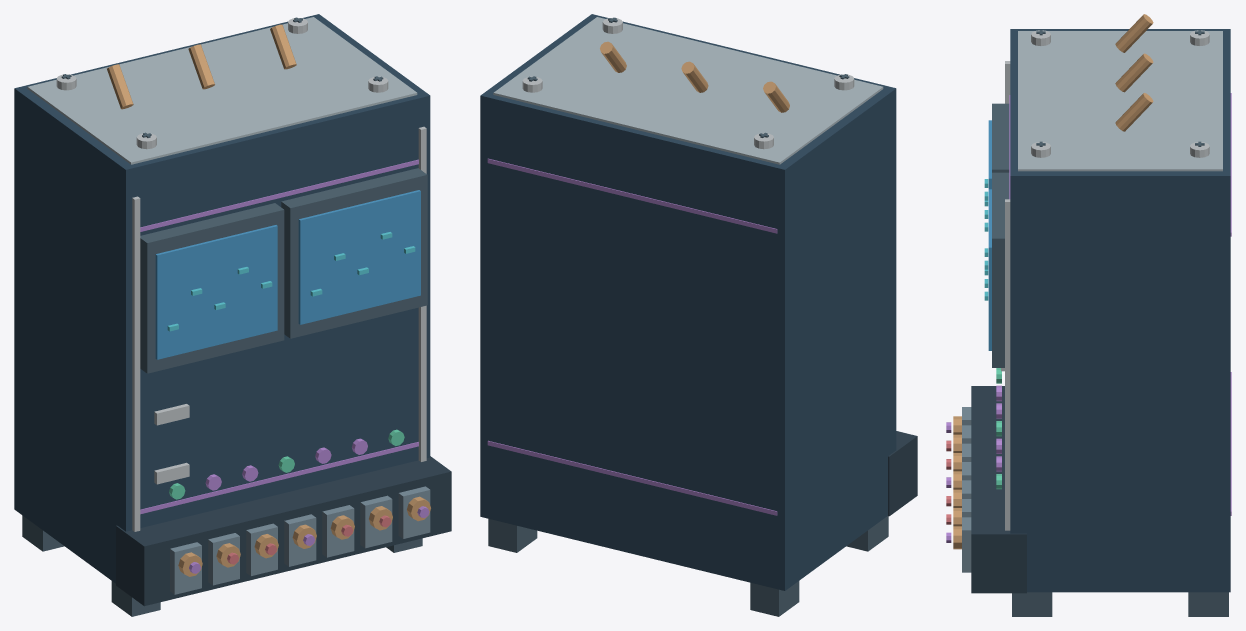
Rendered from 57_L77_ThreeStageCMPProcessController.glb.
3 views of the same model, side by side, from view 1: azimuth 30°, elevation 25°; view 2: azimuth 150°, elevation 25°; view 3: azimuth 270°, elevation 25° (orthographic).
Visible parts, largest first — view 1: ThreeStageCMPProcessController_Node_0000, ThreeStageCMPProcessController_Node_0007, ThreeStageCMPProcessController_Node_0049, ThreeStageCMPProcessController_Node_0032, ThreeStageCMPProcessController_Node_0025, ThreeStageCMPProcessController_Node_0024, ThreeStageCMPProcessController_Node_0031, ThreeStageCMPProcessController_Node_0005, ThreeStageCMPProcessController_Node_0006, ThreeStageCMPProcessController_Node_0023, ThreeStageCMPProcessController_Node_0021, ThreeStageCMPProcessController_Node_0065 (+11 smaller); view 2: ThreeStageCMPProcessController_Node_0000, ThreeStageCMPProcessController_Node_0007, ThreeStageCMPProcessController_Node_0049, ThreeStageCMPProcessController_Node_0022, ThreeStageCMPProcessController_Node_0020, ThreeStageCMPProcessController_Node_0045, ThreeStageCMPProcessController_Node_0047, ThreeStageCMPProcessController_Node_0046; view 3: ThreeStageCMPProcessController_Node_0000, ThreeStageCMPProcessController_Node_0007, ThreeStageCMPProcessController_Node_0049, ThreeStageCMPProcessController_Node_0031, ThreeStageCMPProcessController_Node_0006, ThreeStageCMPProcessController_Node_0024, ThreeStageCMPProcessController_Node_0047, ThreeStageCMPProcessController_Node_0048, ThreeStageCMPProcessController_Node_0032, ThreeStageCMPProcessController_Node_0076, ThreeStageCMPProcessController_Node_0077, ThreeStageCMPProcessController_Node_0078 (+1 smaller).
Part boxes in pixels (left/top/right/bottom): ThreeStageCMPProcessController_Node_0000: left=14, top=14, right=430, bottom=583; ThreeStageCMPProcessController_Node_0007: left=27, top=17, right=417, bottom=164; ThreeStageCMPProcessController_Node_0049: left=116, top=456, right=451, bottom=606; ThreeStageCMPProcessController_Node_0032: left=298, top=190, right=420, bottom=324; ThreeStageCMPProcessController_Node_0025: left=155, top=225, right=277, bottom=359; ThreeStageCMPProcessController_Node_0024: left=140, top=203, right=284, bottom=373; ThreeStageCMPProcessController_Node_0031: left=281, top=168, right=427, bottom=338; ThreeStageCMPProcessController_Node_0005: left=132, top=196, right=140, bottom=531; ThreeStageCMPProcessController_Node_0006: left=418, top=126, right=426, bottom=461; ThreeStageCMPProcessController_Node_0023: left=140, top=159, right=418, bottom=231; ThreeStageCMPProcessController_Node_0021: left=140, top=442, right=418, bottom=514; ThreeStageCMPProcessController_Node_0065: left=360, top=495, right=392, bottom=548; ThreeStageCMPProcessController_Node_0000: left=480, top=14, right=896, bottom=590; ThreeStageCMPProcessController_Node_0007: left=493, top=17, right=883, bottom=164; ThreeStageCMPProcessController_Node_0049: left=888, top=431, right=917, bottom=516; ThreeStageCMPProcessController_Node_0022: left=487, top=158, right=777, bottom=233; ThreeStageCMPProcessController_Node_0020: left=487, top=440, right=777, bottom=515; ThreeStageCMPProcessController_Node_0045: left=750, top=581, right=799, bottom=616; ThreeStageCMPProcessController_Node_0047: left=488, top=519, right=537, bottom=552; ThreeStageCMPProcessController_Node_0046: left=846, top=516, right=888, bottom=551; ThreeStageCMPProcessController_Node_0000: left=1010, top=29, right=1230, bottom=592; ThreeStageCMPProcessController_Node_0007: left=1018, top=31, right=1222, bottom=171; ThreeStageCMPProcessController_Node_0049: left=971, top=386, right=1026, bottom=593; ThreeStageCMPProcessController_Node_0031: left=992, top=172, right=1009, bottom=367; ThreeStageCMPProcessController_Node_0006: left=1005, top=199, right=1010, bottom=530; ThreeStageCMPProcessController_Node_0024: left=992, top=103, right=1009, bottom=172; ThreeStageCMPProcessController_Node_0047: left=1188, top=592, right=1228, bottom=616; ThreeStageCMPProcessController_Node_0048: left=1012, top=592, right=1052, bottom=616; ThreeStageCMPProcessController_Node_0032: left=988, top=189, right=991, bottom=350; ThreeStageCMPProcessController_Node_0076: left=1115, top=14, right=1153, bottom=52; ThreeStageCMPProcessController_Node_0077: left=1115, top=53, right=1153, bottom=92; ThreeStageCMPProcessController_Node_0078: left=1115, top=93, right=1153, bottom=131.
Size of the model in its own units: 1.13 by 1.73 by 0.9184.
